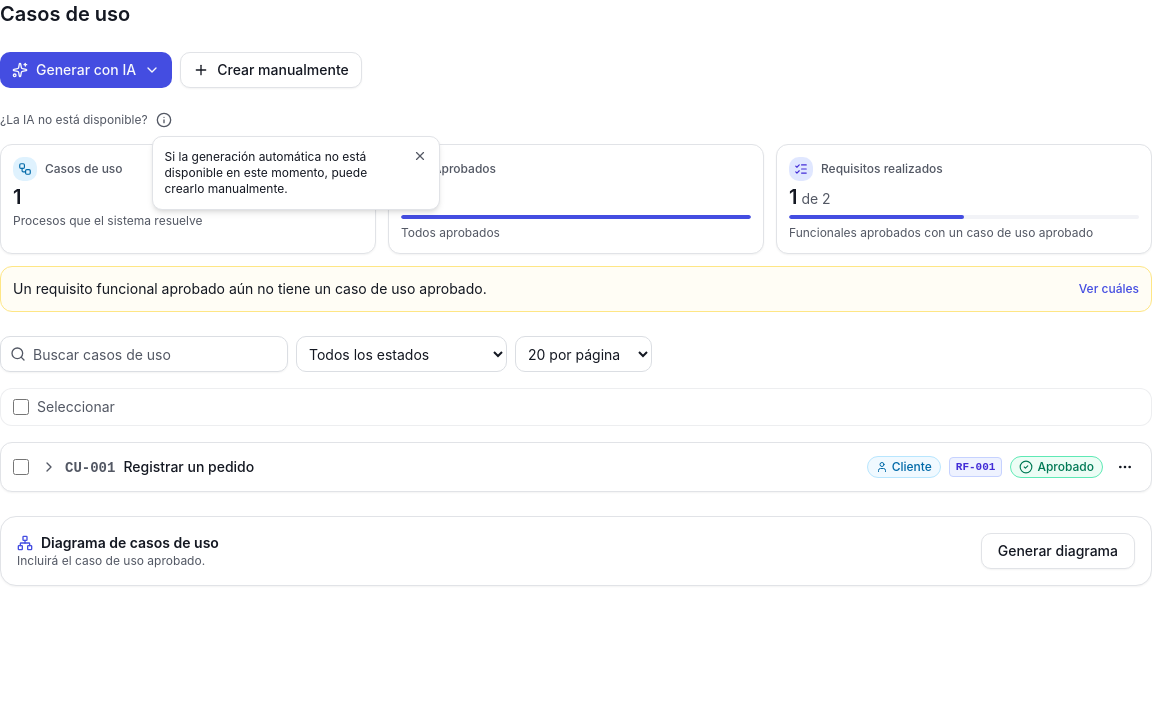
Scenario: Use cases page › opens a use case to show its flows as numbered steps
Expected: the text "RF-001" is shown, left=949, top=457, right=1002, bottom=477
Click the button named "Más acciones de CU-001" at (1125, 467), box left=1111, top=453, right=1139, bottom=481
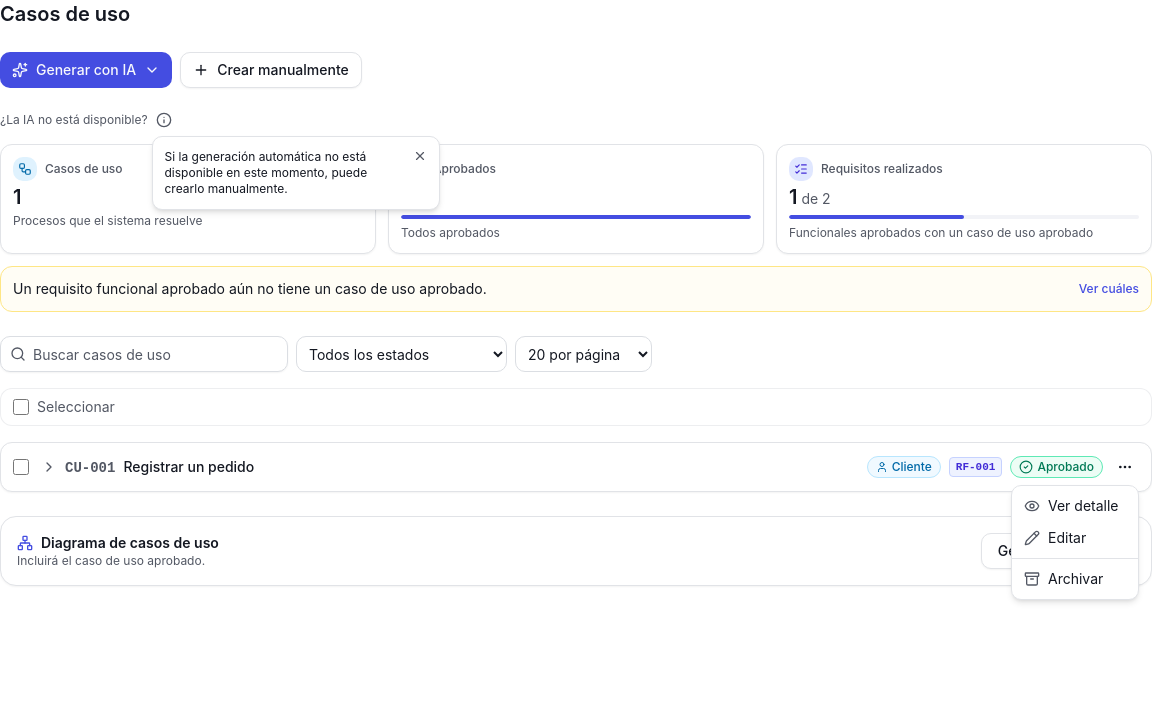
Click the menu item "Ver detalle" at (1071, 506), box left=1024, top=497, right=1118, bottom=514
(page scrolled)
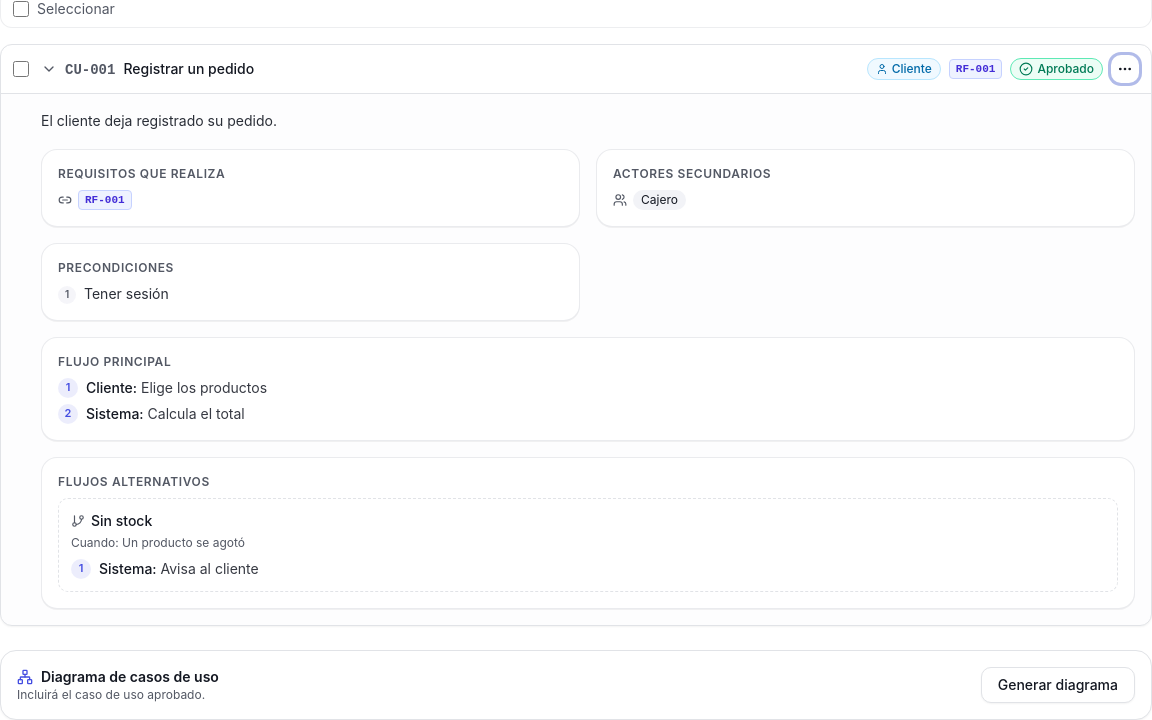
Expected: the text "Calcula el total" is shown, left=148, top=405, right=245, bottom=422
Expected: the text "Cuando: Un producto se agotó" is shown, left=71, top=535, right=245, bottom=550
